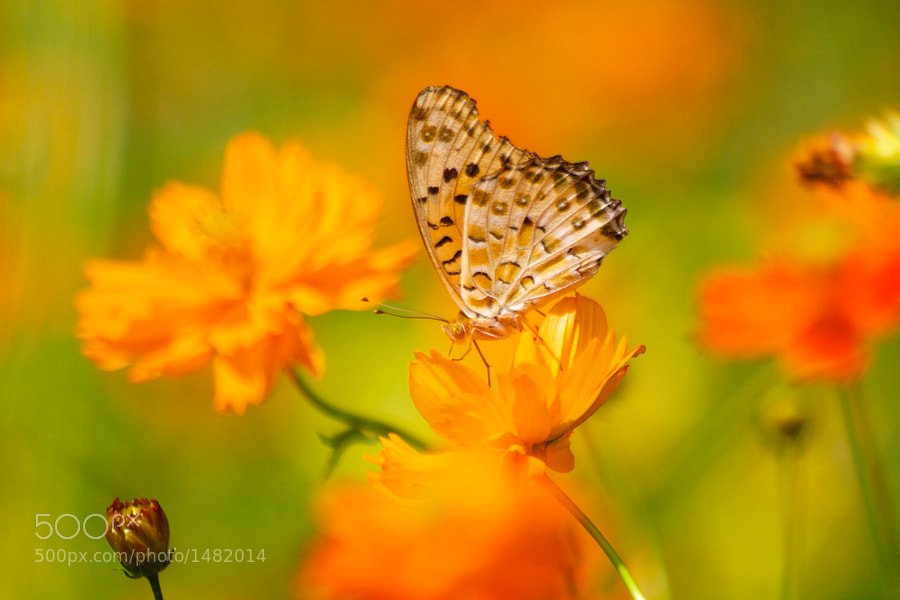Argyreus hyperbius: (349, 80, 640, 389)
butterfly: (351, 82, 642, 391)
